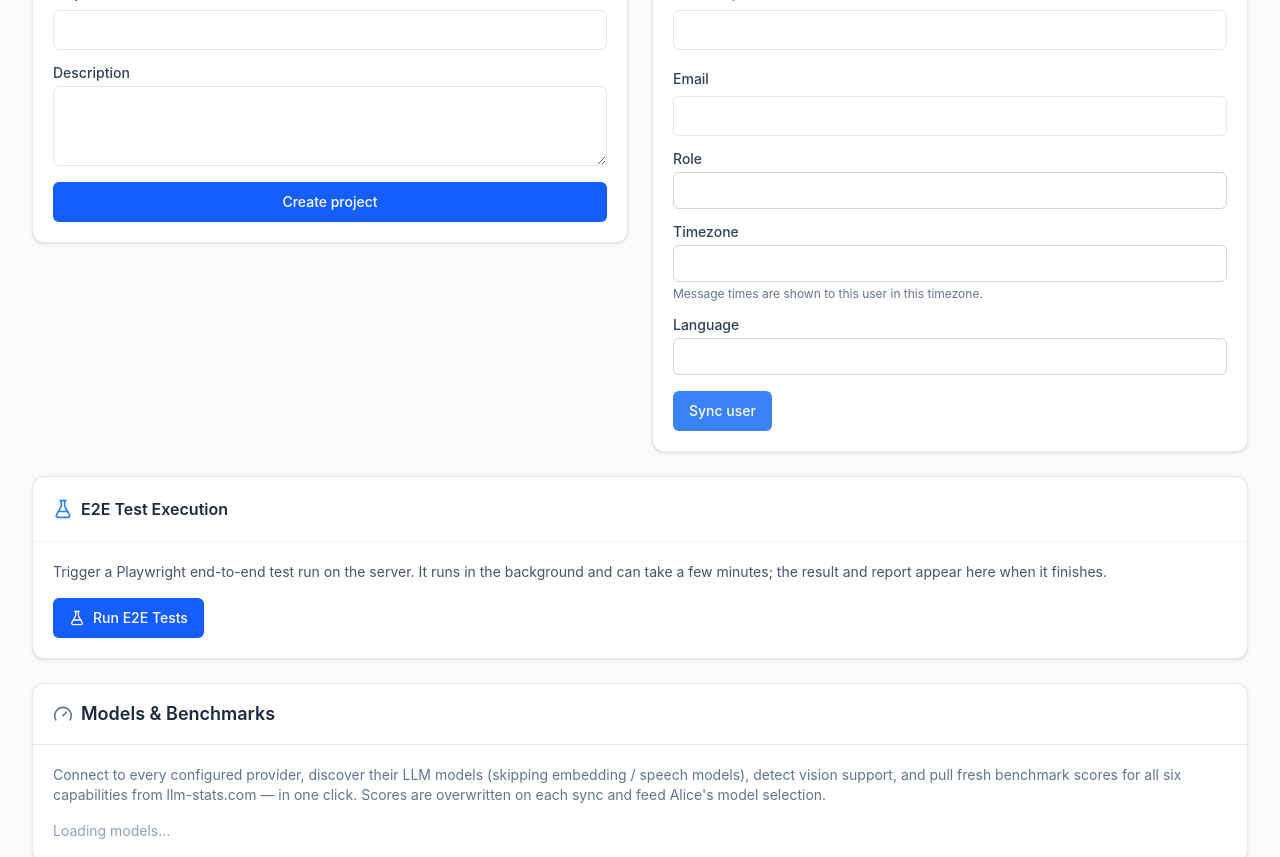
Test: AdminDashboard › E2E Test Execution › shows loading state while tests run and disables button
This screenshot has width=1280, height=857.
(page scrolled)
Click the button "Run E2E Tests". click: (128, 618)
box: [53,598,204,638]
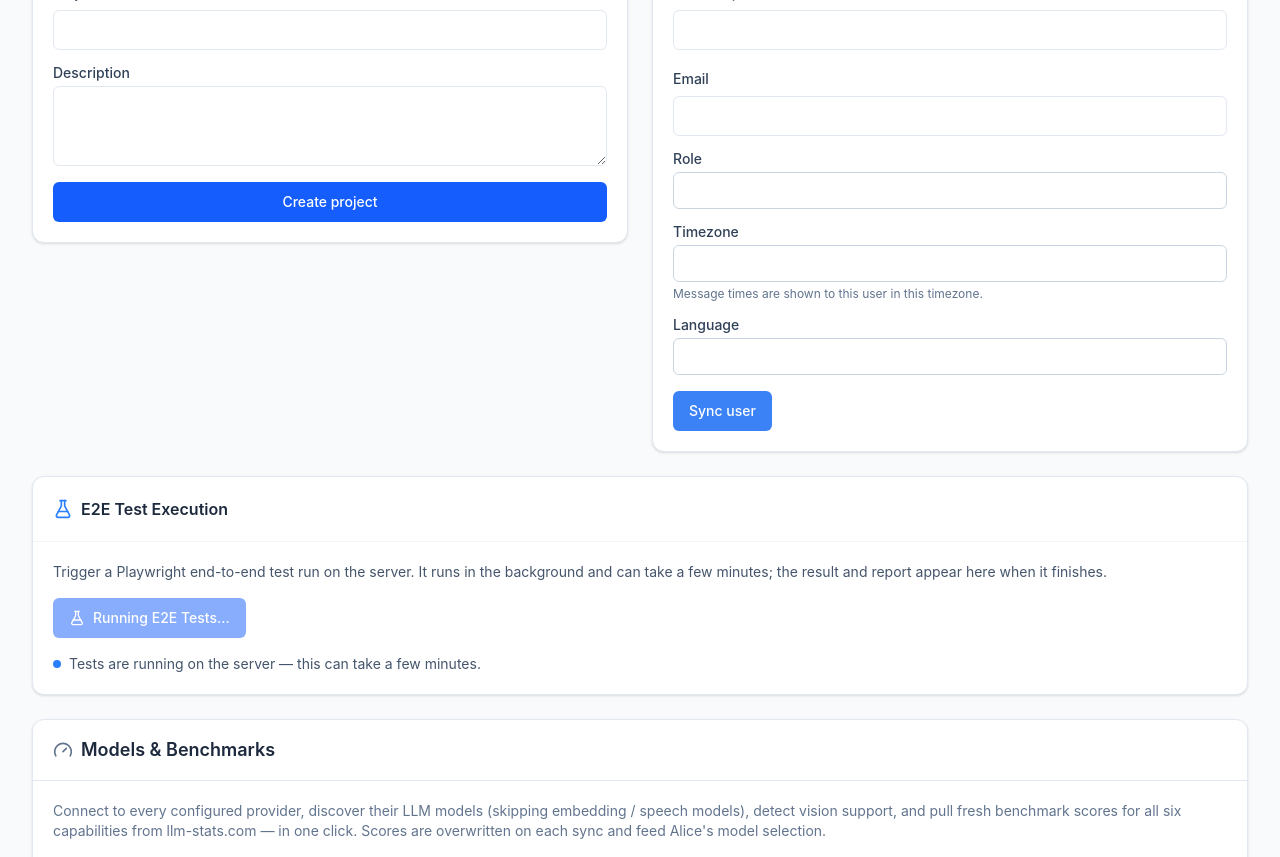
Expected: the button "Running E2E Tests…" is disabled, [53,598,246,638]
Expected: the text "Tests are running" is shown, [69,654,481,672]
